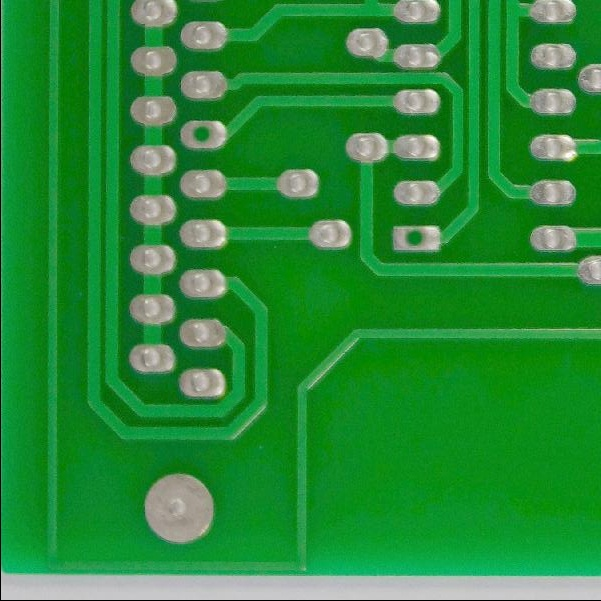missing_hole: (184, 118, 221, 152), (394, 225, 434, 255)
